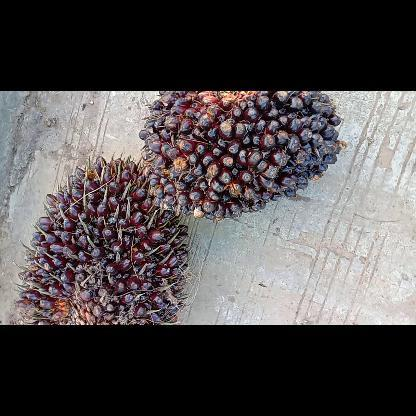TBS mentah: (18, 156, 186, 324), (138, 91, 344, 219)
